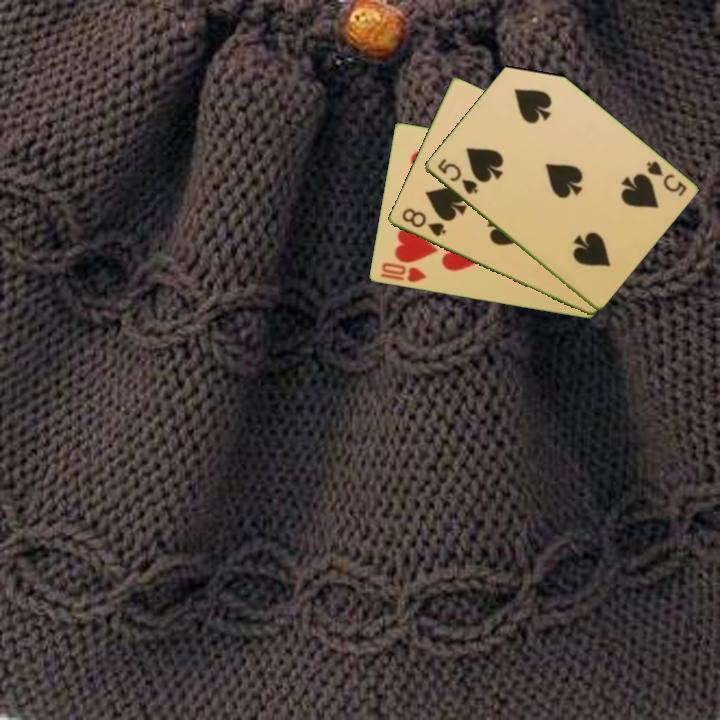10h: (377, 259, 429, 285)
5s: (642, 157, 689, 199), (434, 155, 480, 197)
8s: (398, 205, 449, 239)
